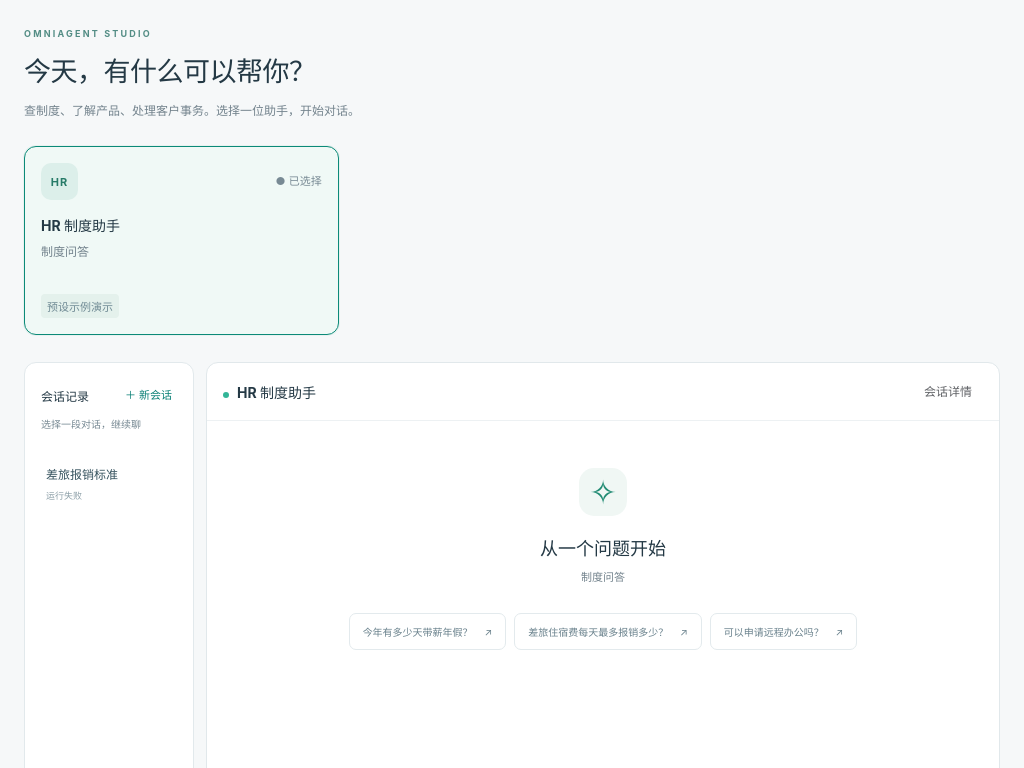
it: renders persisted invalid_dependency_response with readable guidance and collapsed known-code details
Click the button with class "session-item": (109, 484) [25, 451, 193, 516]
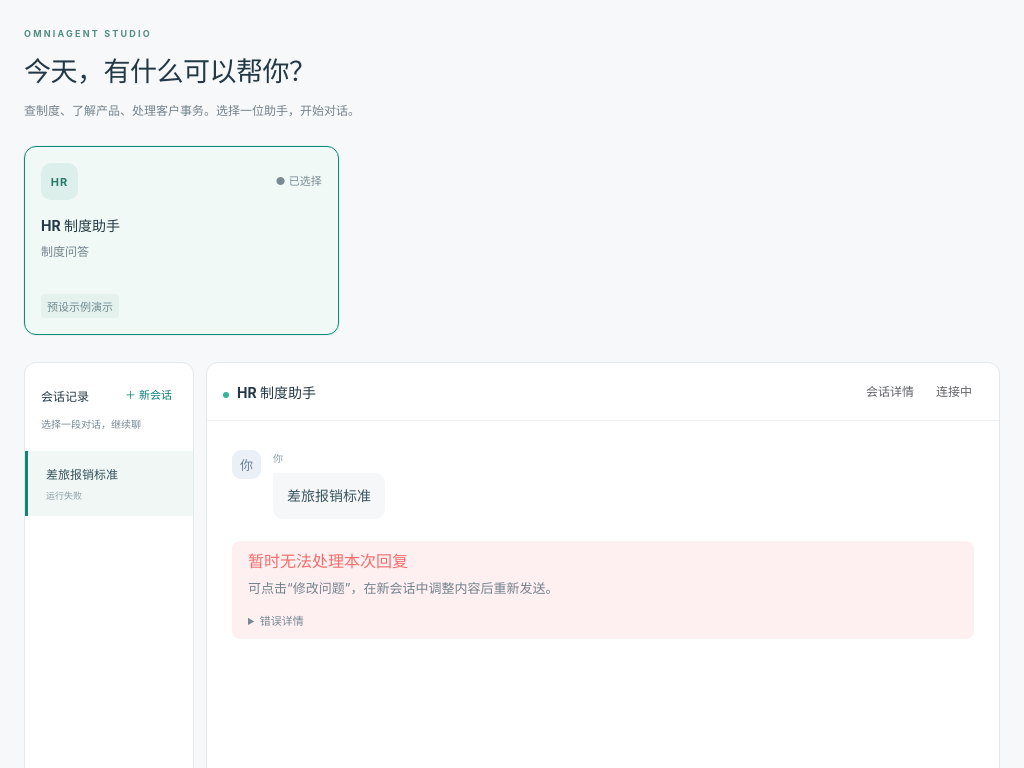
Check: the text "暂时无法处理本次回复" is shown, box [248, 551, 408, 571]
Check: the element with class "run-error" shows "修改问题", box [248, 580, 558, 596]
